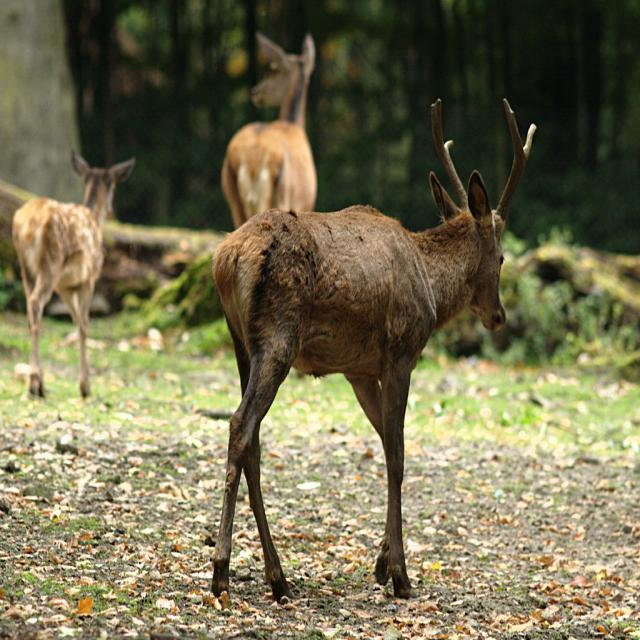Deer: (210, 98, 536, 603), (10, 146, 136, 396), (218, 30, 318, 228)
